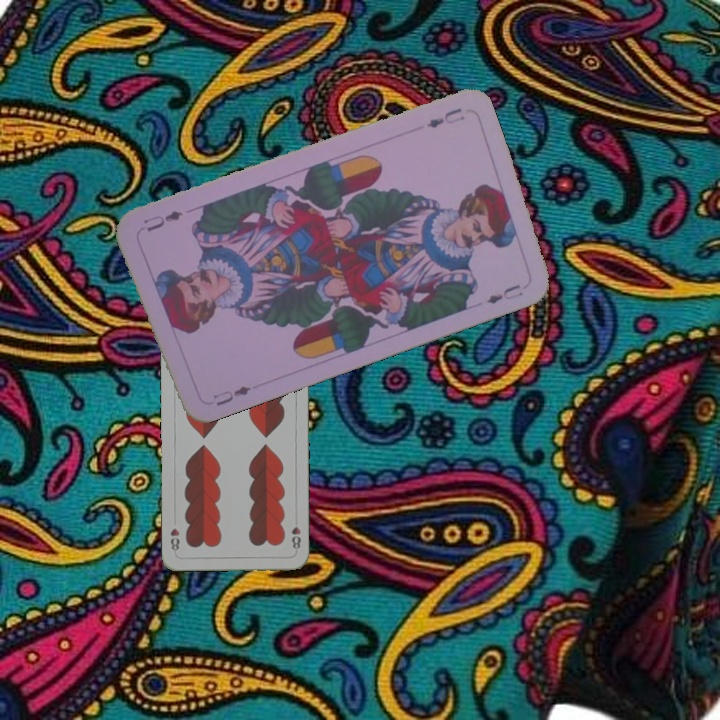EU: (422, 103, 468, 131), (209, 381, 253, 409)
H8: (288, 514, 304, 552)
